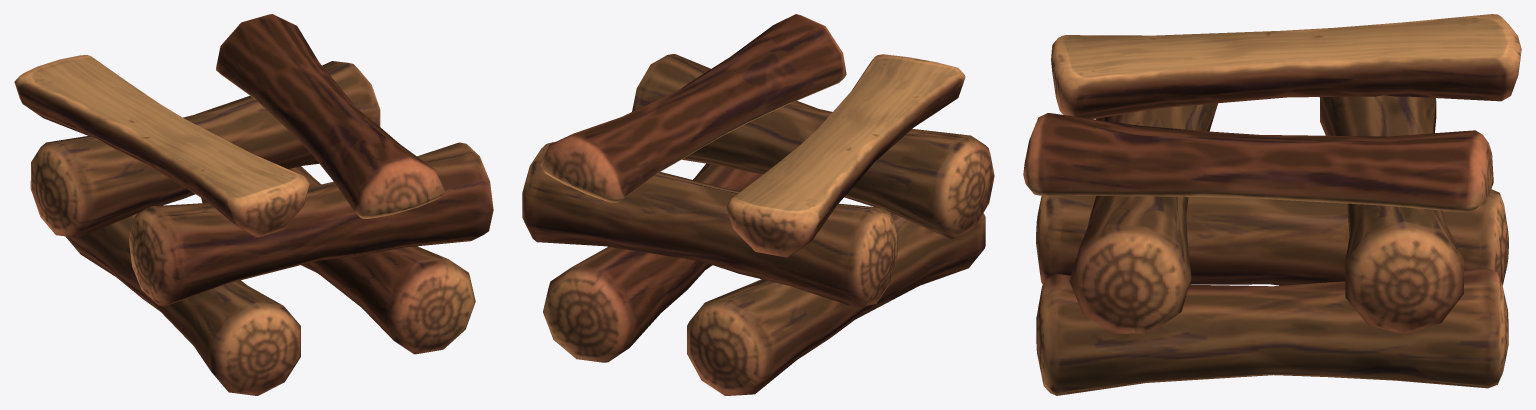
The model's file is SM_Logs_LogCabin_01.obj.
3 views of the same model, side by side, from view 1: azimuth 30°, elevation 25°; view 2: azimuth 150°, elevation 25°; view 3: azimuth 270°, elevation 25° (orthographic). The views are drawn at different scales.
Parts seen in each view (by area): view 1: SM_Logs_LogCabin_01_MI_CampFire_Assets; view 2: SM_Logs_LogCabin_01_MI_CampFire_Assets; view 3: SM_Logs_LogCabin_01_MI_CampFire_Assets.
Boxes of the visible parts, <box> form: SM_Logs_LogCabin_01_MI_CampFire_Assets: <box>14,14,493,395</box>; SM_Logs_LogCabin_01_MI_CampFire_Assets: <box>522,14,994,395</box>; SM_Logs_LogCabin_01_MI_CampFire_Assets: <box>1023,14,1521,395</box>.
Bounding box in the file's own units: 0.5366 × 0.3279 × 0.5792.
1 material, 1 textured.
